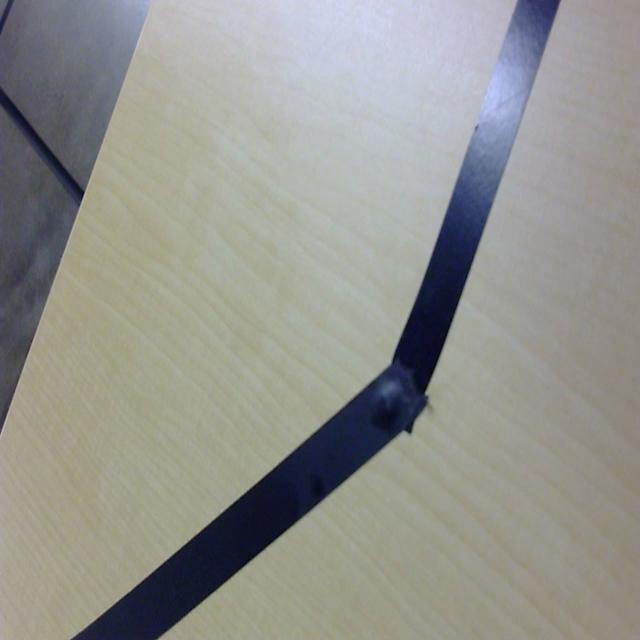tape: (49, 0, 574, 640)
